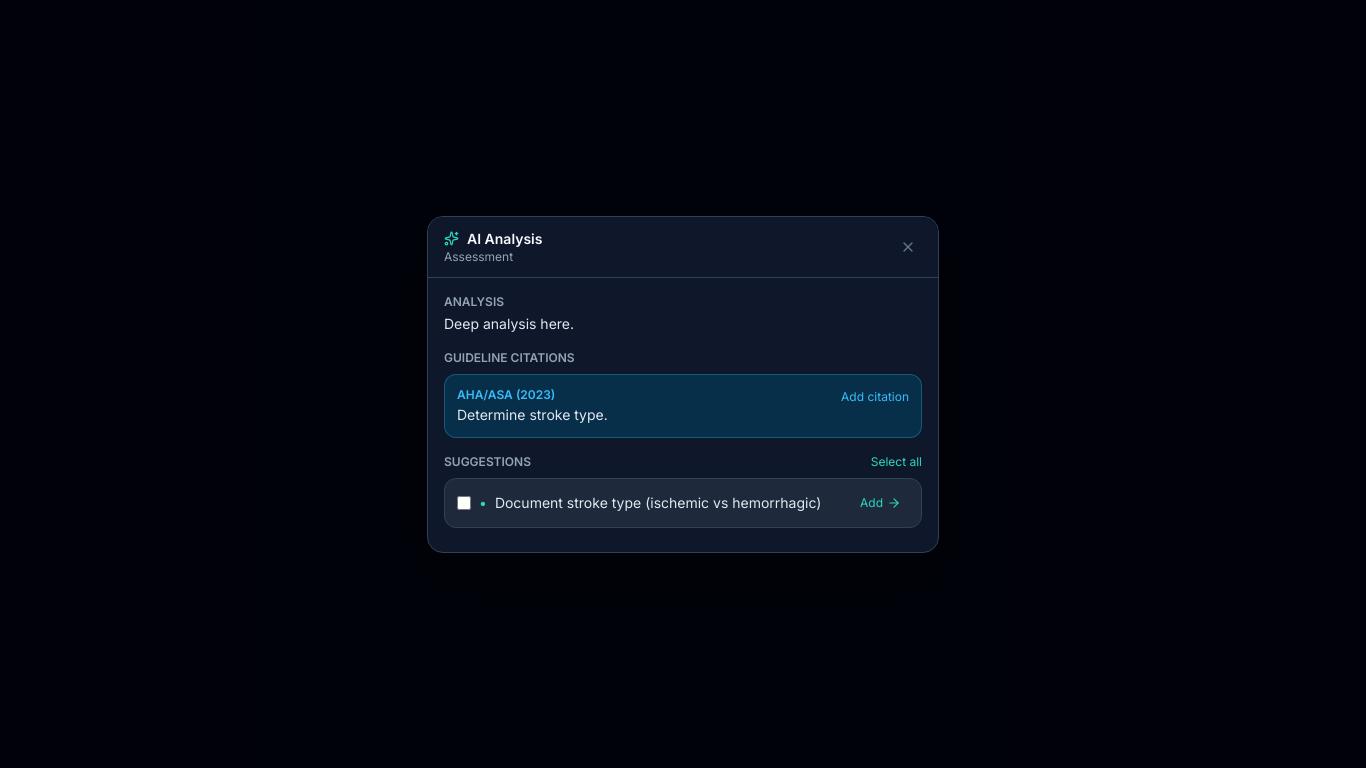
it: FocusedAIPanel › shows preview overlay when ready=true
Click the button with aria-label "add to note" at {"x": 880, "y": 502}, box [852,490,909,514]
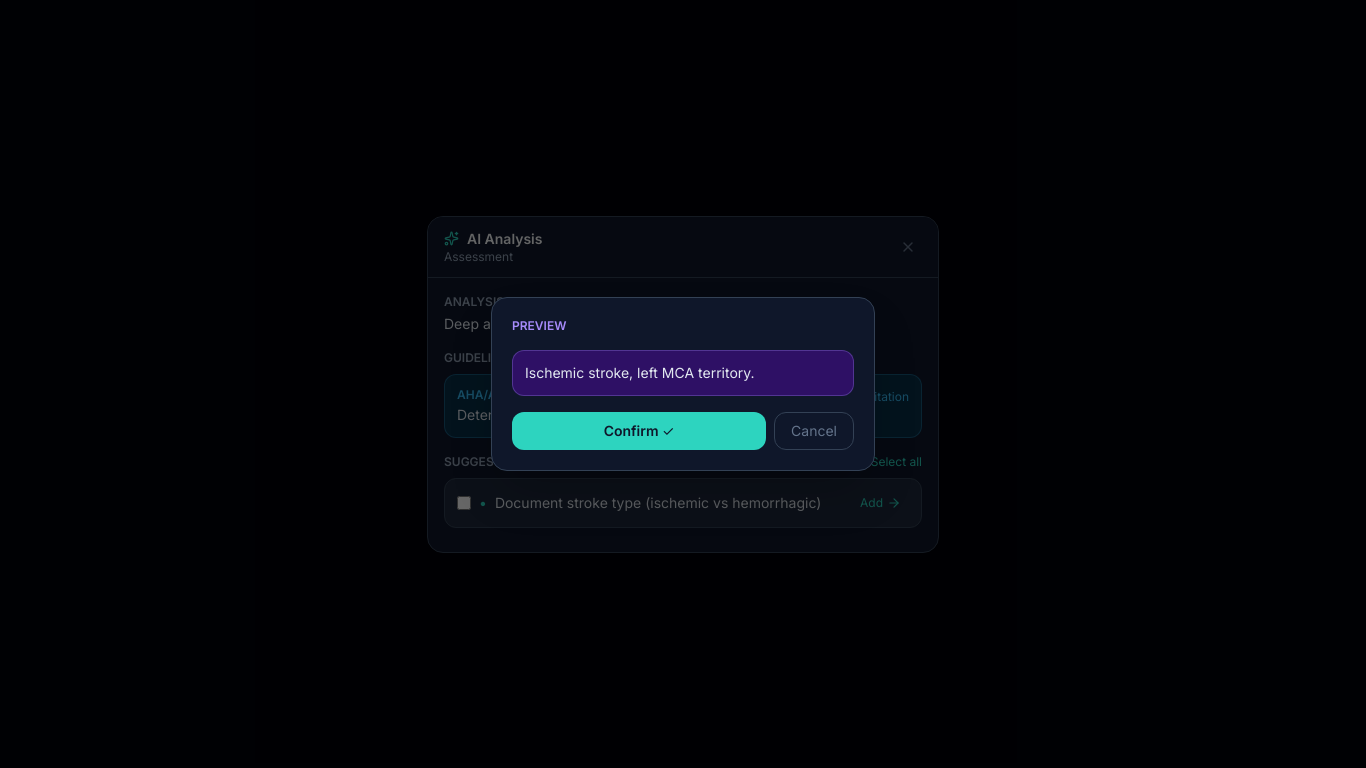
Expected: the text "Ischemic stroke, left MCA territory." is shown, [525,364,755,381]
Expected: the button "Confirm ✓" is shown, [512,412,766,450]
